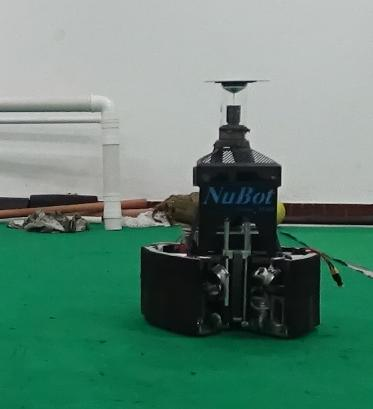robot: (141, 75, 320, 348)
